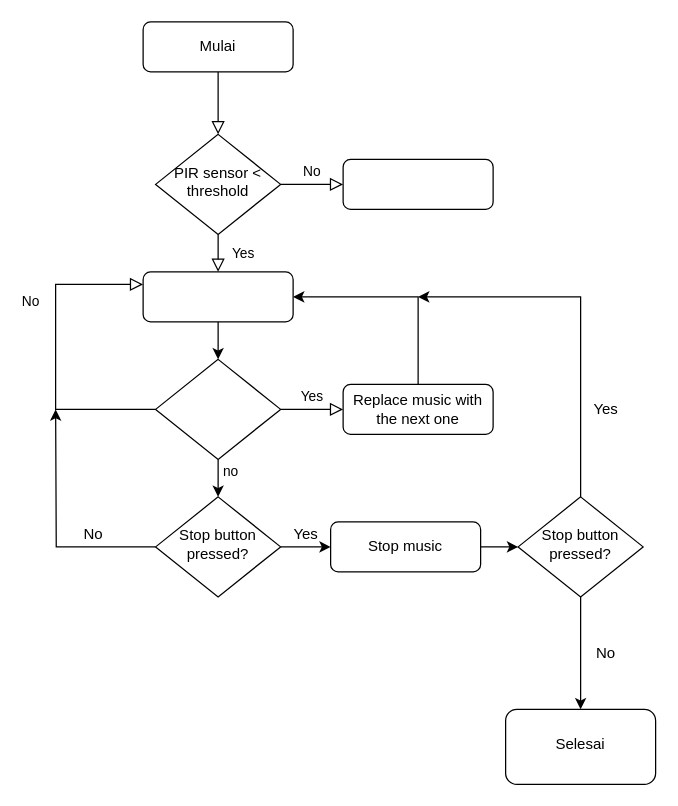
Image size: 678x806. Some labels were removed from this diagram. Each missing label, with the centre of its shape:
Next button pressed?: (217,408)
Play Music (shuffle default): (217,296)
Plug in lamp: (417,183)
